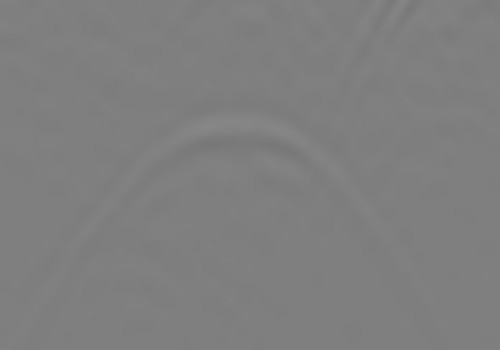hyperbola: (61, 99, 407, 286)
